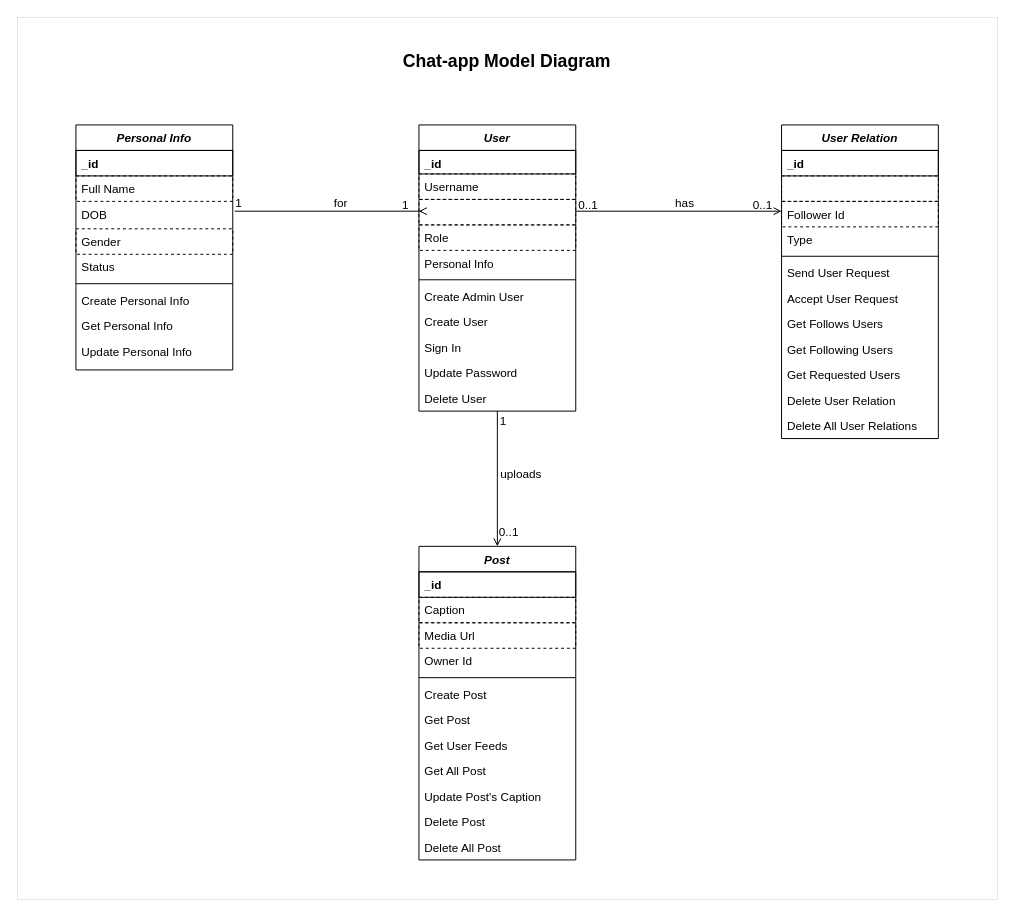
This 1013x915 diagram has some shape labels left out. The shapes that lost their labels are listed below. From the top down, each one's centre as x and y in pixels, then its label:
At [859,188]: "User Id".
At [497,211]: "Password".
